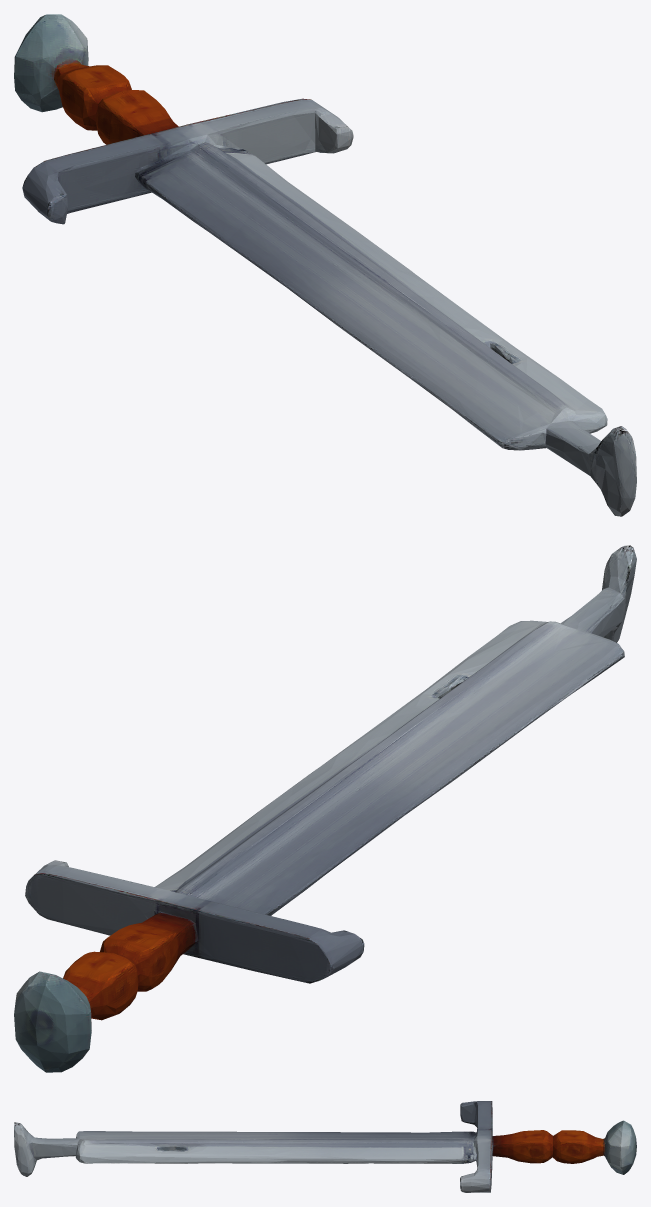
The model's file is sword.glb.
3 views of the same model, one above another, from view 1: azimuth 30°, elevation 25°; view 2: azimuth 150°, elevation 25°; view 3: azimuth 270°, elevation 25° (orthographic). The views are drawn at different scales.
Parts seen in each view (by area): view 1: world; view 2: world; view 3: world.
Boxes of the visible parts, left/top/right/bottom form: world: left=14, top=14, right=636, bottom=516; world: left=14, top=545, right=636, bottom=1072; world: left=14, top=1101, right=636, bottom=1192.
Bounding box in the file's own units: 0.3 × 0.0902 × 0.9878.
1 material, 1 textured.
